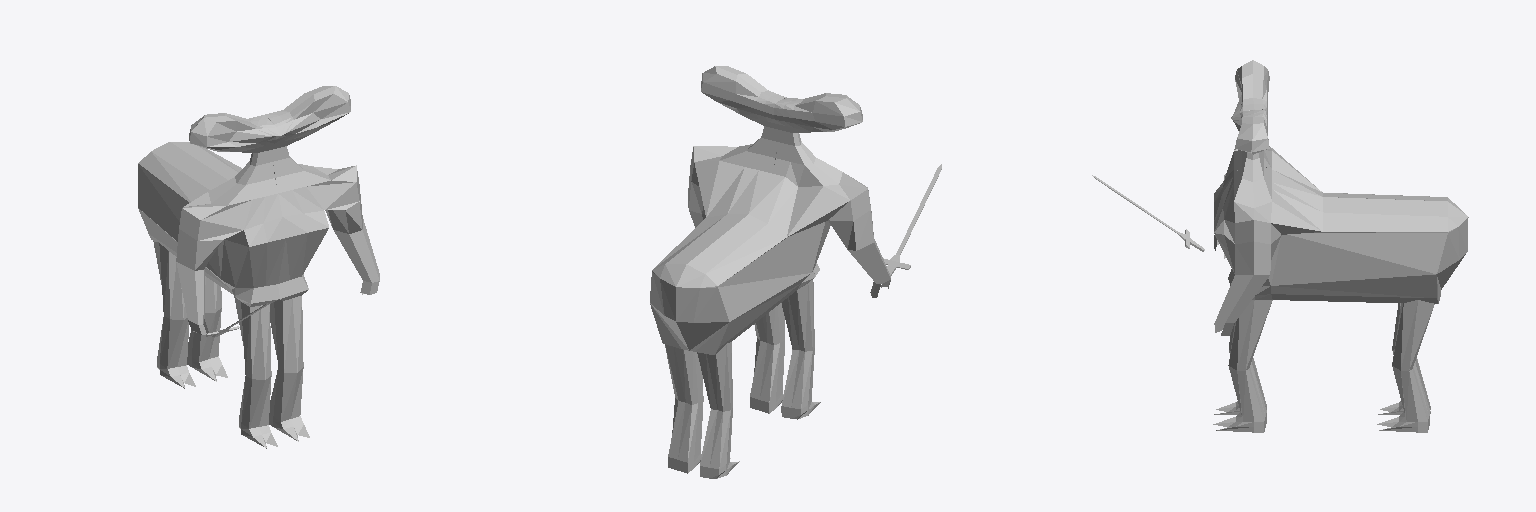
The model's file is Hound1d.obj.
The picture shows the model from 3 angles: view 1: azimuth 30°, elevation 25°; view 2: azimuth 150°, elevation 25°; view 3: azimuth 270°, elevation 25°; orthographic projection.
Visible parts, largest first — view 1: Cube; view 2: Cube, Plane; view 3: Cube.
Boxes of the visible parts, box(x1,y1,x2,y2) form: Cube: box(138, 86, 379, 448); Cube: box(650, 66, 890, 478); Plane: box(883, 164, 941, 275); Cube: box(1213, 60, 1468, 432).
Bounding box in the file's own units: 11.45 × 18.67 × 19.44.